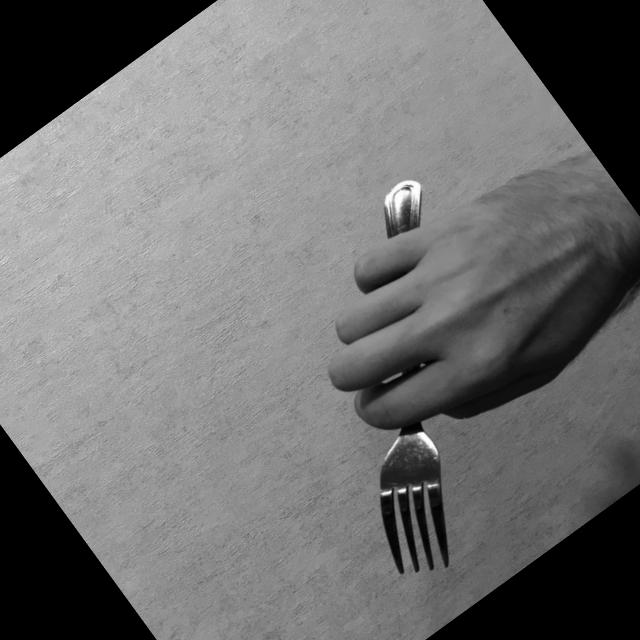fork: (209, 170, 612, 592)
